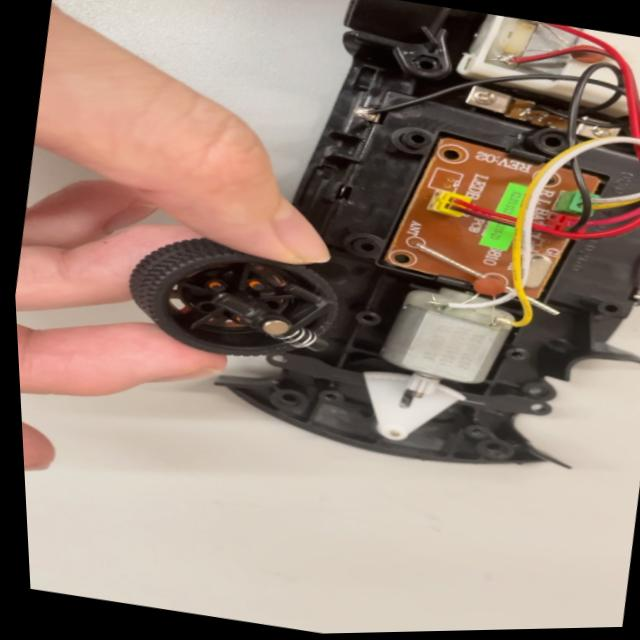motor: (355, 266, 531, 410)
wheel: (122, 226, 349, 371)
